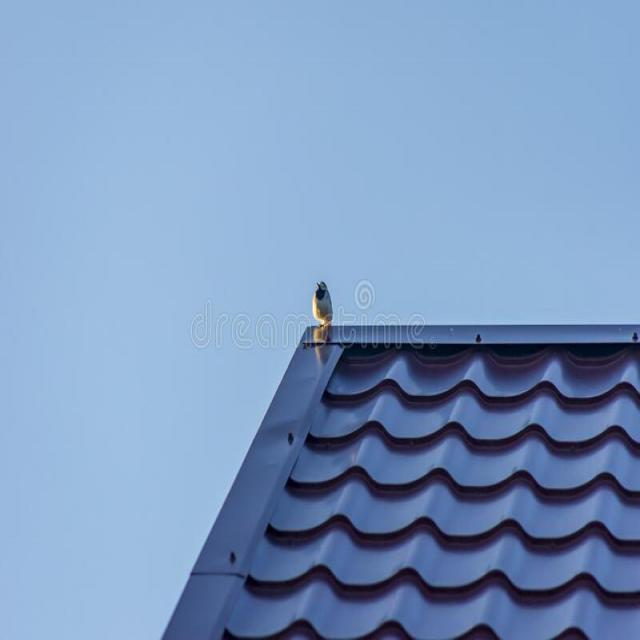bird: (312, 280, 334, 337)
